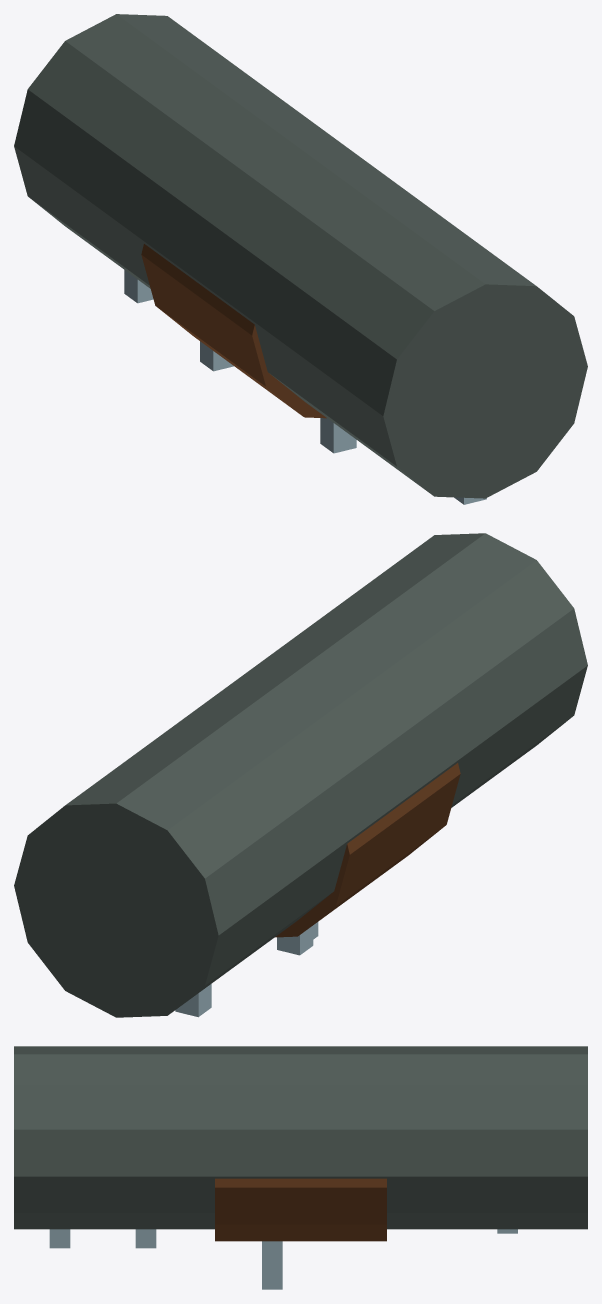
File: bunker-pipe.glb
3 views of the same model, one above another, from view 1: azimuth 30°, elevation 25°; view 2: azimuth 150°, elevation 25°; view 3: azimuth 270°, elevation 25° (orthographic). The views are drawn at different scales.
Parts seen in each view (by area): view 1: bunker-pipe; view 2: bunker-pipe; view 3: bunker-pipe.
Boxes of the visible parts, x1,y1,x2,y2 form: bunker-pipe: (14, 14, 587, 504); bunker-pipe: (14, 533, 587, 1017); bunker-pipe: (14, 1046, 587, 1289).
Bounding box in the file's own units: 0.326 × 0.43 × 1.
